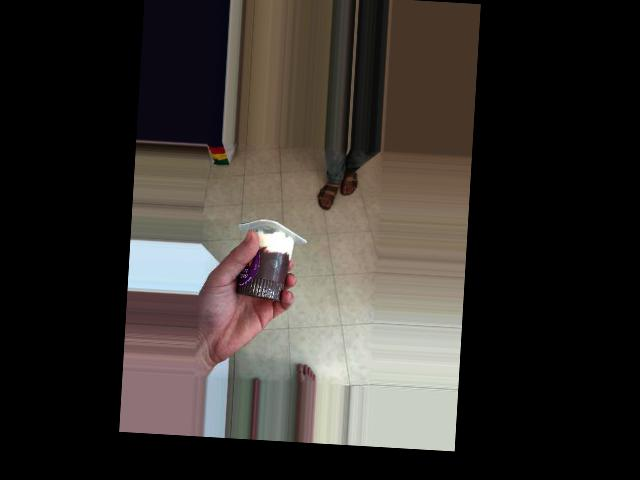milky: (243, 214, 301, 295)
